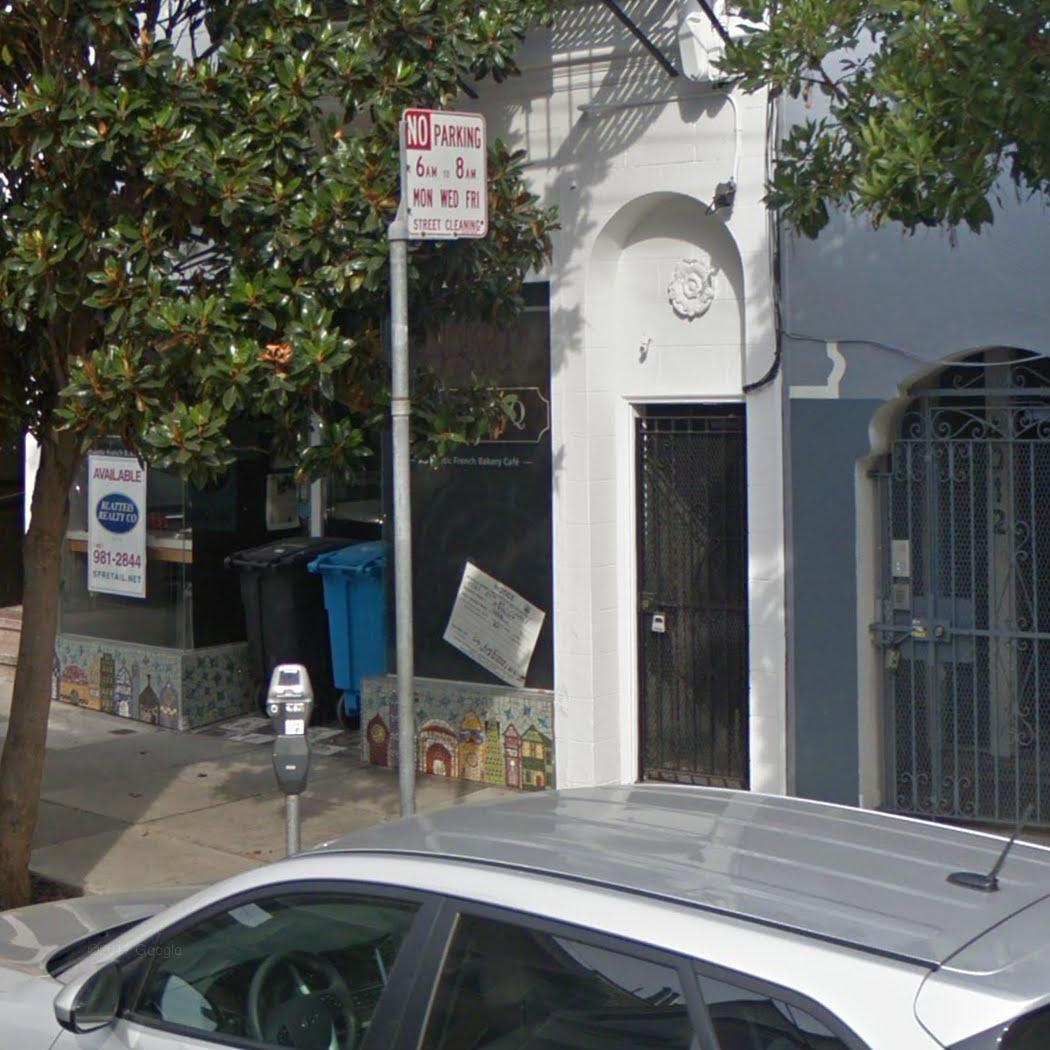No Parking: (394, 100, 496, 247)
